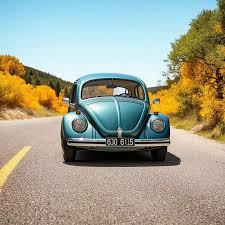volkswagen: (60, 72, 170, 169)
